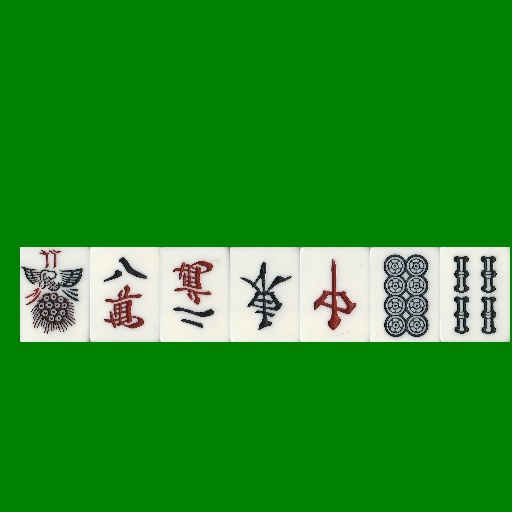1s: (20, 247, 90, 342)
2m: (160, 247, 230, 342)
4s: (440, 247, 510, 342)
8m: (90, 247, 160, 342)
8p: (370, 247, 440, 342)
east: (230, 247, 300, 342)
tyun: (300, 247, 370, 342)
